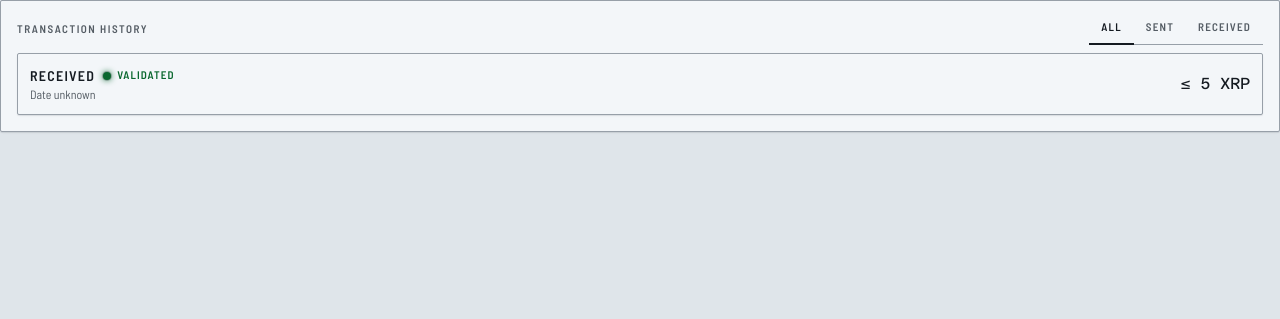
HistoryTab — an amount not known to be delivered is an upper bound › prefixes an absent-delivery figure with ≤ and states it is a maximum once expanded
The width and height of the screenshot is (1280, 319).
Expected: the text "≤ 5 XRP" is shown, [1181, 72, 1250, 96]
Click the button at (63, 75), box [30, 66, 1250, 102]
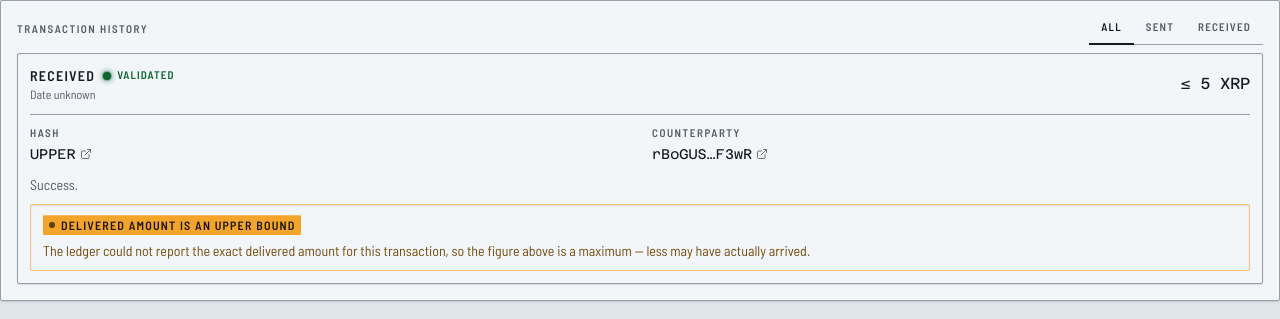
Result: the text "Delivered amount is an upper bound" is shown at [43, 215, 301, 235]
Result: the text "could not report the exact delivered amount" is shown at [43, 242, 810, 259]
